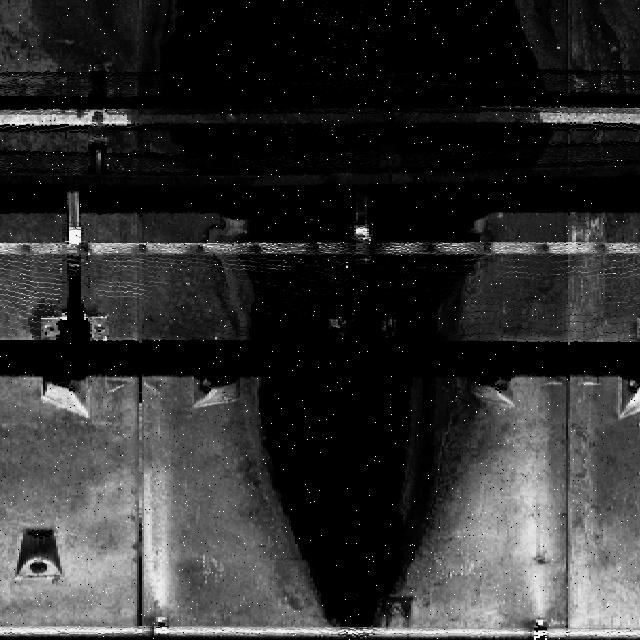leakage: (142, 9, 555, 638)
